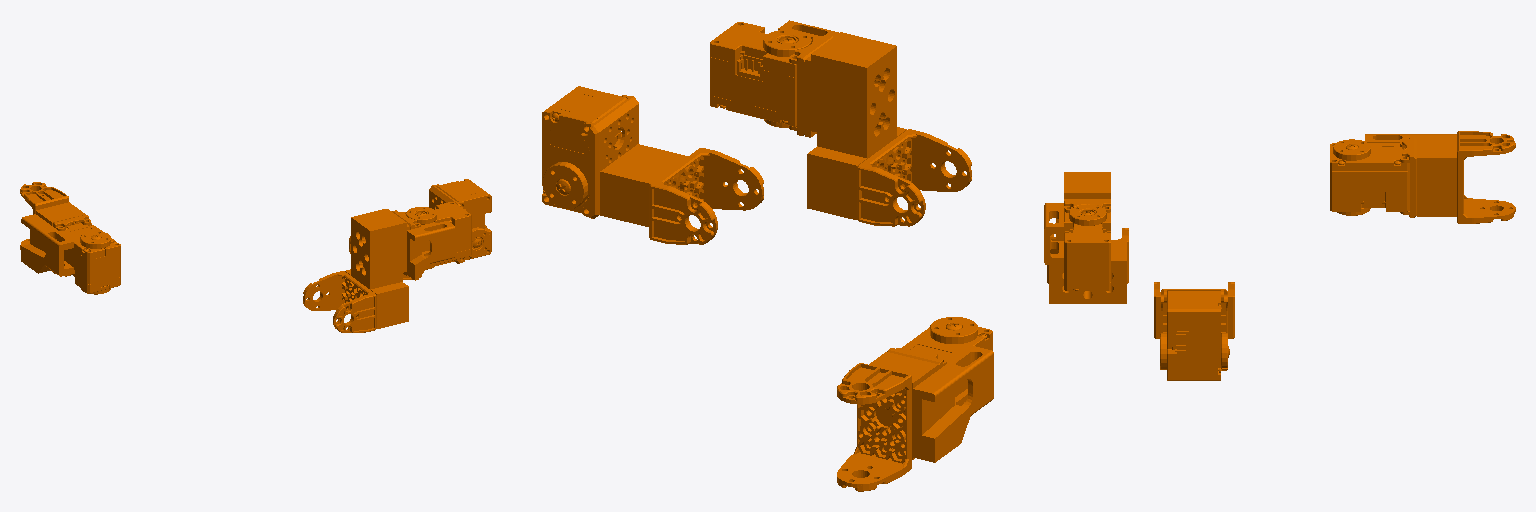
URDF robot description (onshape):
<robot name="onshape">
  <link name="palm_lower">
    <inertial>
      <origin xyz="0.0 0.0 0.0" rpy="0.0 -0.0 0.0"/>
      <mass value="0.237"/>
      <inertia ixx="0.000354094" ixy="-1.193e-06" ixz="-2.445e-06" iyy="0.000260915" iyz="-2.905e-06" izz="0.000529257"/>
    </inertial>
    <visual>
      <geometry>
        <mesh filename="../assets/leap/leap_hand/palm_lower.stl"/>
      </geometry>
      <origin xyz="-0.020095249652862544 0.025757756134899473 -0.034722403578460216" rpy="0.0 -0.0 0.0"/>
      <material name="palm_lower_material">
        <color rgba="0.6039215686274509 0.14901960784313725 0.14901960784313725 1.0"/>
      </material>
    </visual>
    <collision>
      <geometry>
        <mesh filename="../assets/leap/leap_hand/palm_lower.stl"/>
      </geometry>
      <origin xyz="-0.020095249652862544 0.025757756134899473 -0.034722403578460216" rpy="0.0 -0.0 0.0"/>
    </collision>
  </link>
  <link name="pip_4">
    <inertial>
      <origin xyz="0.0 0.0 0.0" rpy="0.0 -0.0 0.0"/>
      <mass value="0.032"/>
      <inertia ixx="4.798e-06" ixy="1.2e-08" ixz="4e-09" iyy="2.862e-06" iyz="1.1e-08" izz="4.234e-06"/>
    </inertial>
    <visual>
      <geometry>
        <mesh filename="../assets/leap/leap_hand/pip.stl"/>
      </geometry>
      <origin xyz="-0.005356636907728671 0.0002999999999999999 0.0007840340104173782" rpy="-1.5707963267948966 -1.5707963267948963 0.0"/>
      <material name="pip_material">
        <color rgba="0.7490196078431373 0.7490196078431373 0.7490196078431373 1.0"/>
      </material>
    </visual>
    <collision>
      <geometry>
        <mesh filename="../assets/leap/leap_hand/pip.stl"/>
      </geometry>
      <origin xyz="-0.005356636907728671 0.0002999999999999999 0.0007840340104173782" rpy="-1.5707963267948966 -1.5707963267948963 0.0"/>
    </collision>
  </link>
  <link name="thumb_pip">
    <inertial>
      <origin xyz="0.0 0.0 0.0" rpy="0.0 -0.0 0.0"/>
      <mass value="0.003"/>
      <inertia ixx="5.93e-07" ixy="0.0" ixz="0.0" iyy="5.49e-07" iyz="0.0" izz="2.24e-07"/>
    </inertial>
    <visual>
      <geometry>
        <mesh filename="../assets/leap/leap_hand/thumb_pip.stl"/>
      </geometry>
      <origin xyz="0.011961920770611187 -5.30825383648903e-16 -0.0158526489566642" rpy="1.5707963267948966 1.6050198443300153e-46 -3.9204996250525193e-59"/>
      <material name="thumb_pip_material">
        <color rgba="0.8666666666666667 0.8666666666666667 0.050980392156862744 1.0"/>
      </material>
    </visual>
    <collision>
      <geometry>
        <mesh filename="../assets/leap/leap_hand/thumb_pip.stl"/>
      </geometry>
      <origin xyz="0.011961920770611187 -5.30825383648903e-16 -0.0158526489566642" rpy="1.5707963267948966 1.6050198443300153e-46 -3.9204996250525193e-59"/>
    </collision>
  </link>
  <link name="thumb_dip_long">
    <inertial>
      <origin xyz="0.0 0.0 0.0" rpy="0.0 -0.0 0.0"/>
      <mass value="0.038"/>
      <inertia ixx="8.474e-06" ixy="2.41e-07" ixz="2.6e-08" iyy="3.841e-06" iyz="2.5e-08" izz="7.679e-06"/>
    </inertial>
    <visual>
      <geometry>
        <mesh filename="custom_models/thumb_dip_long.stl"/>
      </geometry>
      <origin xyz="0.043968715707239175439 0.072952952973709198625 -0.0086286764493694757122" rpy="1.94289029309401e-16 3.27515792264422e-15 1.112375852965736e-46"/>
      <material name="thumb_dip_material">
        <color rgba="0.878 0.467 0.0 1.0"/>
      </material>
    </visual>
    <collision>
      <geometry>
        <mesh filename="custom_models/thumb_dip_long.stl"/>
      </geometry>
      <origin xyz="0.043968715707239175439 0.072952952973709198625 -0.0086286764493694757122" rpy="1.94289029309401e-16 3.27515792264422e-15 1.112375852965736e-46"/>
    </collision>
  </link>
  <link name="thumb_fingertip">
    <inertial>
      <origin xyz="0.0 0.0 0.0" rpy="0.0 -0.0 0.0"/>
      <mass value="0.049"/>
      <inertia ixx="2.0372e-05" ixy="-4.89e-07" ixz="-3e-08" iyy="4.336e-06" iyz="-9.7e-08" izz="1.9845e-05"/>
    </inertial>
    <visual>
      <geometry>
        <mesh filename="../assets/leap/leap_hand/thumb_fingertip.stl"/>
      </geometry>
      <origin xyz="0.06255953846266739 0.07845968291139699 0.048992911807332215" rpy="4.379057701015637e-47 -3.33066907387547e-16 1.2042408677791935e-46"/>
      <material name="thumb_fingertip_material">
        <color rgba="0.6039215686274509 0.14901960784313725 0.14901960784313725 1.0"/>
      </material>
    </visual>
    <collision>
      <geometry>
        <mesh filename="../assets/leap/leap_hand/thumb_fingertip.stl"/>
      </geometry>
      <origin xyz="0.06255953846266739 0.07845968291139699 0.048992911807332215" rpy="4.379057701015637e-47 -3.33066907387547e-16 1.2042408677791935e-46"/>
    </collision>
  </link>
  <link name="mcp_joint_2">
    <inertial>
      <origin xyz="0.0 0.0 0.0" rpy="0.0 -0.0 0.0"/>
      <mass value="0.044"/>
      <inertia ixx="1.1499e-05" ixy="3.049e-06" ixz="1.21e-07" iyy="7.796e-06" iyz="1.12e-07" izz="1.4759e-05"/>
    </inertial>
    <visual>
      <geometry>
        <mesh filename="../assets/leap/leap_hand/mcp_joint.stl"/>
      </geometry>
      <origin xyz="0.008406902261174496 0.0077662438597169954 0.014657354985032914" rpy="1.6375789613221e-15 -1.0076465469034e-30 2.1209300131419907e-61"/>
      <material name="mcp_joint_material">
        <color rgba="0.8666666666666667 0.8666666666666667 0.050980392156862744 1.0"/>
      </material>
    </visual>
    <collision>
      <geometry>
        <mesh filename="../assets/leap/leap_hand/mcp_joint.stl"/>
      </geometry>
      <origin xyz="0.008406902261174496 0.0077662438597169954 0.014657354985032914" rpy="1.6375789613221e-15 -1.0076465469034e-30 2.1209300131419907e-61"/>
    </collision>
  </link>
  <link name="pip_2">
    <inertial>
      <origin xyz="0.0 0.0 0.0" rpy="0.0 -0.0 0.0"/>
      <mass value="0.032"/>
      <inertia ixx="4.798e-06" ixy="1.2e-08" ixz="4e-09" iyy="2.862e-06" iyz="1.1e-08" izz="4.234e-06"/>
    </inertial>
    <visual>
      <geometry>
        <mesh filename="../assets/leap/leap_hand/pip.stl"/>
      </geometry>
      <origin xyz="0.009643363092271328 0.0002999999999999947 0.0007840340104173765" rpy="-1.5707963267948966 -1.5707963267948963 0.0"/>
      <material name="pip_material">
        <color rgba="0.7490196078431373 0.7490196078431373 0.7490196078431373 1.0"/>
      </material>
    </visual>
    <collision>
      <geometry>
        <mesh filename="../assets/leap/leap_hand/pip.stl"/>
      </geometry>
      <origin xyz="0.009643363092271328 0.0002999999999999947 0.0007840340104173765" rpy="-1.5707963267948966 -1.5707963267948963 0.0"/>
    </collision>
  </link>
  <link name="dip_2_long">
    <inertial>
      <origin xyz="0.0 0.0 0.0" rpy="0.0 -0.0 0.0"/>
      <mass value="0.037"/>
      <inertia ixx="5.542e-06" ixy="-6.07e-07" ixz="-1.7e-08" iyy="5.727e-06" iyz="-2.3e-08" izz="6.682e-06"/>
    </inertial>
    <visual>
      <geometry>
        <mesh filename="custom_models/dip_long.stl"/>
      </geometry>
      <origin xyz="0.021133352895225003 -0.008432119146704865 0.009785088162095237" rpy="-3.141592653589793 2.1146933785271956e-32 1.4408183216511869e-31"/>
      <material name="dip_material">
        <color rgba="0.878 0.467 0.0 1.0"/>
      </material>
    </visual>
    <collision>
      <geometry>
        <mesh filename="custom_models/dip_long.stl"/>
      </geometry>
      <origin xyz="0.021133352895225003 -0.008432119146704865 0.009785088162095237" rpy="-3.141592653589793 2.1146933785271956e-32 1.4408183216511869e-31"/>
    </collision>
  </link>
  <link name="fingertip_2">
    <inertial>
      <origin xyz="0.0 0.0 0.0" rpy="0.0 -0.0 0.0"/>
      <mass value="0.016"/>
      <inertia ixx="3.368e-06" ixy="1.15e-07" ixz="0.0" iyy="1.556e-06" iyz="0.0" izz="2.863e-06"/>
    </inertial>
    <visual>
      <geometry>
        <mesh filename="../assets/leap/leap_hand/fingertip.stl"/>
      </geometry>
      <origin xyz="0.013286424108533496 -0.006114238386542001 0.014499999999999496" rpy="3.141592653589793 -4.317959788283594e-33 1.4408183216511869e-31"/>
      <material name="fingertip_material">
        <color rgba="0.8666666666666667 0.8666666666666667 0.050980392156862744 1.0"/>
      </material>
    </visual>
    <collision>
      <geometry>
        <mesh filename="../assets/leap/leap_hand/fingertip.stl"/>
      </geometry>
      <origin xyz="0.013286424108533496 -0.006114238386542001 0.014499999999999496" rpy="3.141592653589793 -4.317959788283594e-33 1.4408183216511869e-31"/>
    </collision>
  </link>
  <link name="mcp_joint_3_long">
    <inertial>
      <origin xyz="0.0 0.0 0.0" rpy="0.0 -0.0 0.0"/>
      <mass value="0.044"/>
      <inertia ixx="1.1499e-05" ixy="3.049e-06" ixz="1.21e-07" iyy="7.796e-06" iyz="1.12e-07" izz="1.4759e-05"/>
    </inertial>
    <visual>
      <geometry>
        <mesh filename="custom_models/mcp_joint_long.stl"/>
      </geometry>
      <origin xyz="0.0084069022611745 0.007766243859716996 0.014657354985032914" rpy="1.6375789613221e-15 -1.0059504988632627e-30 5.729641584552035e-32"/>
      <material name="mcp_joint_material">
        <color rgba="0.878 0.467 0.0 1.0"/>
      </material>
    </visual>
    <collision>
      <geometry>
        <mesh filename="custom_models/mcp_joint_long.stl"/>
      </geometry>
      <origin xyz="0.0084069022611745 0.007766243859716996 0.014657354985032914" rpy="1.6375789613221e-15 -1.0059504988632627e-30 5.729641584552035e-32"/>
    </collision>
  </link>
  <link name="pip_3">
    <inertial>
      <origin xyz="0.0 0.0 0.0" rpy="0.0 -0.0 0.0"/>
      <mass value="0.032"/>
      <inertia ixx="4.798e-06" ixy="1.2e-08" ixz="4e-09" iyy="2.862e-06" iyz="1.1e-08" izz="4.234e-06"/>
    </inertial>
    <visual>
      <geometry>
        <mesh filename="../assets/leap/leap_hand/pip.stl"/>
      </geometry>
      <origin xyz="0.009643363092271331 0.00029999999999998084 0.0007840340104173765" rpy="-1.5707963267948966 -1.5707963267948963 0.0"/>
      <material name="pip_material">
        <color rgba="0.7490196078431373 0.7490196078431373 0.7490196078431373 1.0"/>
      </material>
    </visual>
    <collision>
      <geometry>
        <mesh filename="../assets/leap/leap_hand/pip.stl"/>
      </geometry>
      <origin xyz="0.009643363092271331 0.00029999999999998084 0.0007840340104173765" rpy="-1.5707963267948966 -1.5707963267948963 0.0"/>
    </collision>
  </link>
  <link name="dip_3">
    <inertial>
      <origin xyz="0.0 0.0 0.0" rpy="0.0 -0.0 0.0"/>
      <mass value="0.037"/>
      <inertia ixx="5.542e-06" ixy="-6.07e-07" ixz="-1.7e-08" iyy="5.727e-06" iyz="-2.3e-08" izz="6.682e-06"/>
    </inertial>
    <visual>
      <geometry>
        <mesh filename="../assets/leap/leap_hand/dip.stl"/>
      </geometry>
      <origin xyz="0.021133352895225006 -0.008432119146704865 0.009785088162095237" rpy="-3.141592653589793 -1.4095651113919093e-33 1.5565411607615035e-32"/>
      <material name="dip_material">
        <color rgba="0.8666666666666667 0.8666666666666667 0.050980392156862744 1.0"/>
      </material>
    </visual>
    <collision>
      <geometry>
        <mesh filename="../assets/leap/leap_hand/dip.stl"/>
      </geometry>
      <origin xyz="0.021133352895225006 -0.008432119146704865 0.009785088162095237" rpy="-3.141592653589793 -1.4095651113919093e-33 1.5565411607615035e-32"/>
    </collision>
  </link>
  <link name="fingertip_3">
    <inertial>
      <origin xyz="0.0 0.0 0.0" rpy="0.0 -0.0 0.0"/>
      <mass value="0.016"/>
      <inertia ixx="3.368e-06" ixy="1.15e-07" ixz="0.0" iyy="1.556e-06" iyz="0.0" izz="2.863e-06"/>
    </inertial>
    <visual>
      <geometry>
        <mesh filename="../assets/leap/leap_hand/fingertip.stl"/>
      </geometry>
      <origin xyz="0.013286424108533501 -0.006114238386541987 0.0144999999999995" rpy="3.141592653589793 8.61707169505754e-33 1.5565411607615035e-32"/>
      <material name="fingertip_material">
        <color rgba="0.8666666666666667 0.8666666666666667 0.050980392156862744 1.0"/>
      </material>
    </visual>
    <collision>
      <geometry>
        <mesh filename="../assets/leap/leap_hand/fingertip.stl"/>
      </geometry>
      <origin xyz="0.013286424108533501 -0.006114238386541987 0.0144999999999995" rpy="3.141592653589793 8.61707169505754e-33 1.5565411607615035e-32"/>
    </collision>
  </link>
  <joint name="12" type="revolute">
    <parent link="palm_lower"/>
    <child link="pip_4"/>
    <origin xyz="-0.06939524965286253 -0.0012422438651005258 -0.021622403578460216" rpy="-8.238176646493942e-17 1.5707963267948957 0.0"/>
    <axis xyz="0.0 0.0 -1.0"/>
    <limit effort="0.95" velocity="8.48" lower="-0.349" upper="2.094"/>
  </joint>
  <joint name="13" type="revolute">
    <parent link="pip_4"/>
    <child link="thumb_pip"/>
    <origin xyz="-2.7755575615628914e-17 0.014300000000000005 -0.013000000000000012" rpy="1.570796326794896 -1.5707963267948963 0.0"/>
    <axis xyz="0.0 0.0 -1.0"/>
    <limit effort="0.95" velocity="8.48" lower="-0.47" upper="2.443"/>
  </joint>
  <joint name="14" type="revolute">
    <parent link="thumb_pip"/>
    <child link="thumb_dip_long"/>
    <origin xyz="0.0 0.014499999999999966 -0.017000000000000053" rpy="-1.5707963267948966 1.6050198443300131e-46 -1.9721522630516625e-31"/>
    <axis xyz="0.0 0.0 -1.0"/>
    <limit effort="0.95" velocity="8.48" lower="-1.2" upper="1.9"/>
  </joint>
  <joint name="15" type="revolute">
    <parent link="thumb_dip_long"/>
    <child link="thumb_fingertip"/>
    <origin xyz="-1.249000902703301108e-16 0.061599999999999863753 0.00019999999999997710581" rpy="1.506395849149178e-44 5.423418723393526e-31 3.141592653589793"/>
    <axis xyz="0.0 0.0 -1.0"/>
    <limit effort="0.95" velocity="8.48" lower="-1.34" upper="1.88"/>
  </joint>
  <joint name="5" type="revolute">
    <parent link="palm_lower"/>
    <child link="mcp_joint_2"/>
    <origin xyz="-0.007095249652862546 -0.022392243865100525 -0.01872240357846022" rpy="1.570796326794895 1.5707963267948946 0.0"/>
    <axis xyz="0.0 0.0 -1.0"/>
    <limit effort="0.95" velocity="8.48" lower="-0.314" upper="2.23"/>
  </joint>
  <joint name="4" type="revolute">
    <parent link="mcp_joint_2"/>
    <child link="pip_2"/>
    <origin xyz="-0.012200000000000008 0.038099999999999995 0.0145" rpy="-1.5707963267948966 -1.0065212660796337e-15 1.5707963267948943"/>
    <axis xyz="0.0 0.0 -1.0"/>
    <limit effort="0.95" velocity="8.48" lower="-1.047" upper="1.047"/>
  </joint>
  <joint name="6" type="revolute">
    <parent link="pip_2"/>
    <child link="dip_2_long"/>
    <origin xyz="0.014999999999999968 0.014299999999999905 -0.012999999999999824" rpy="1.570796326794896 -1.5707963267948963 0.0"/>
    <axis xyz="0.0 0.0 -1.0"/>
    <limit effort="0.95" velocity="8.48" lower="-0.506" upper="1.885"/>
  </joint>
  <joint name="7" type="revolute">
    <parent link="dip_2_long"/>
    <child link="fingertip_2"/>
    <origin xyz="-4.0880582495572692636e-09 -0.051100004210367367397 0.00020000000000007858714" rpy="4.5935029425113685e-17 -2.8730071914463795e-16 4.439548105392361e-32"/>
    <axis xyz="0.0 0.0 -1.0"/>
    <limit effort="0.95" velocity="8.48" lower="-0.366" upper="2.042"/>
  </joint>
  <joint name="9" type="revolute">
    <parent link="palm_lower"/>
    <child link="mcp_joint_3_long"/>
    <origin xyz="-0.007095249652862546 -0.06784224386510052 -0.01872240357846022" rpy="1.570796326794895 1.5707963267948946 0.0"/>
    <axis xyz="0.0 0.0 -1.0"/>
    <limit effort="0.95" velocity="8.48" lower="-0.314" upper="2.23"/>
  </joint>
  <joint name="8" type="revolute">
    <parent link="mcp_joint_3_long"/>
    <child link="pip_3"/>
    <origin xyz="-0.012200000000000007713 0.053099999999999994982 0.014500000000000000736" rpy="-1.5707963267948966 -1.0065212660796337e-15 1.5707963267948943"/>
    <axis xyz="0.0 0.0 -1.0"/>
    <limit effort="0.95" velocity="8.48" lower="-1.047" upper="1.047"/>
  </joint>
  <joint name="10" type="revolute">
    <parent link="pip_3"/>
    <child link="dip_3"/>
    <origin xyz="0.014999999999999968 0.014299999999999905 -0.012999999999999824" rpy="1.570796326794896 -1.5707963267948963 0.0"/>
    <axis xyz="0.0 0.0 -1.0"/>
    <limit effort="0.95" velocity="8.48" lower="-0.506" upper="1.885"/>
  </joint>
  <joint name="11" type="revolute">
    <parent link="dip_3"/>
    <child link="fingertip_3"/>
    <origin xyz="-4.088058249557269e-09 -0.03610000421036737 0.0002000000000000786" rpy="4.5935029425113685e-17 -2.8730071914463795e-16 4.439548105392361e-32"/>
    <axis xyz="0.0 0.0 -1.0"/>
    <limit effort="0.95" velocity="8.48" lower="-0.366" upper="2.042"/>
  </joint>
</robot>

--- What the picture shows (computed from the rendered views, not written in the file) ---
Views: 3 orthographic renders of the robot side by side, from view 1: azimuth 30°, elevation 25°; view 2: azimuth 150°, elevation 25°; view 3: azimuth 270°, elevation 25°.
Model onshape with 13 links and 12 joints (12 revolute), rooted at palm_lower, posed all joints at 0.
Visible links, largest first — view 1: mcp_joint_3_long, thumb_dip_long, dip_2_long; view 2: mcp_joint_3_long, dip_2_long, thumb_dip_long; view 3: thumb_dip_long, mcp_joint_3_long, dip_2_long.
Link boxes in pixels (x1,y1,x2,y2): mcp_joint_3_long: (303, 202, 471, 332); thumb_dip_long: (20, 182, 120, 294); dip_2_long: (349, 179, 491, 279); mcp_joint_3_long: (710, 20, 971, 226); dip_2_long: (542, 86, 763, 244); thumb_dip_long: (837, 317, 993, 491); thumb_dip_long: (1330, 131, 1515, 223); mcp_joint_3_long: (1044, 172, 1128, 303); dip_2_long: (1154, 282, 1234, 380).
Bounding box of the posed robot: 0.208 × 0.2004 × 0.063 m (x, y, z).
3 mesh visuals loaded from 10 distinct referenced files (3 binary STL); not drawn: 10 (reference not matched to a file when rendering).